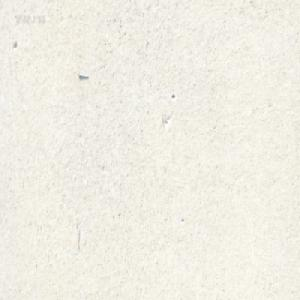Nail: (77, 71, 89, 79)
